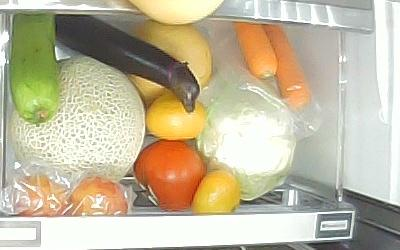cabbage: (197, 93, 295, 201)
carrot: (232, 22, 278, 81)
carrot_vinyl: (263, 24, 311, 111)
eggplant: (54, 14, 200, 113)
melon: (11, 56, 145, 185)
pear: (128, 22, 213, 98)
prune_vinyl: (7, 176, 71, 216), (66, 177, 129, 215)
tangerine: (146, 93, 208, 139), (192, 171, 241, 214)
tomato: (134, 140, 207, 211)
zucchini: (9, 12, 59, 123)
